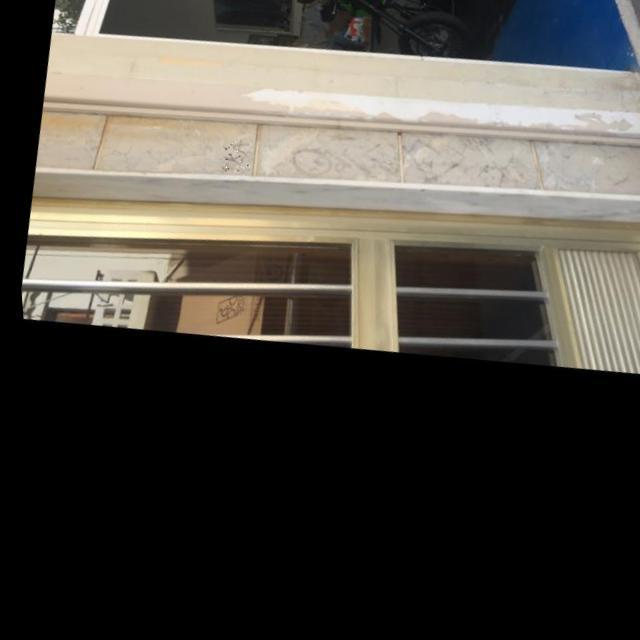-: (217, 142, 252, 184)
